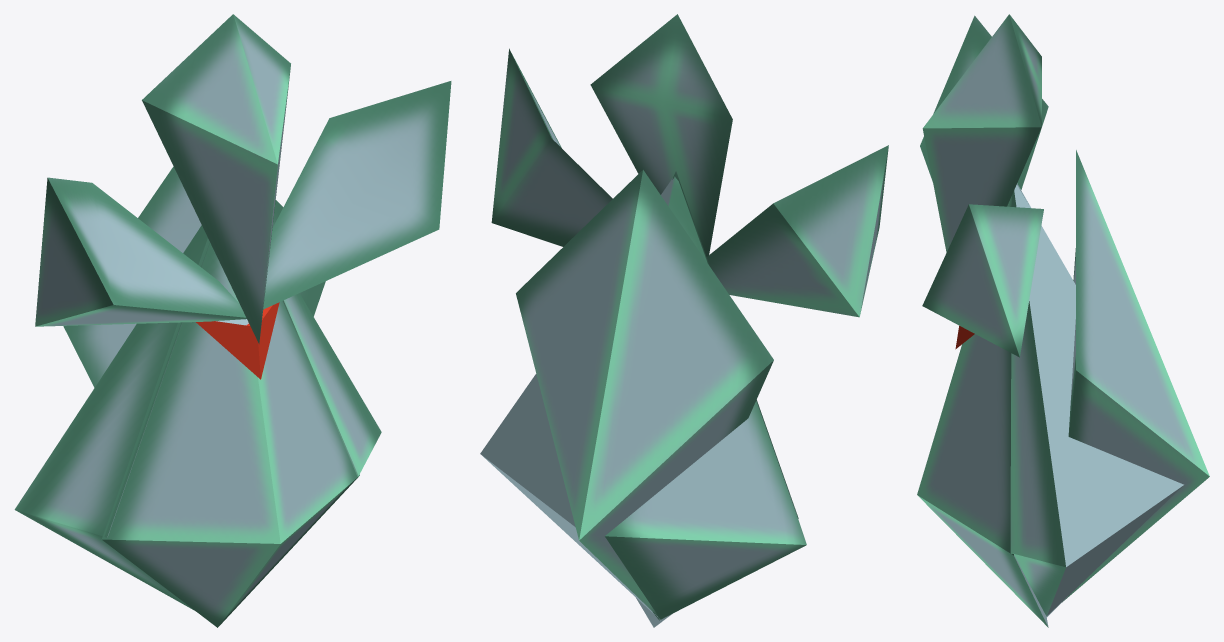
The model's file is Desert_Enemy_mesh.FBX.
The picture shows the model from 3 angles, left to right: view 1: azimuth 30°, elevation 25°; view 2: azimuth 150°, elevation 25°; view 3: azimuth 270°, elevation 25°; orthographic projection. The views are drawn at different scales.
Visible parts, largest first — view 1: Pyramid005; view 2: Pyramid005; view 3: Pyramid005.
Boxes of the visible parts, box(x1,y1,x2,y2) form: Pyramid005: box(14, 14, 451, 627); Pyramid005: box(480, 14, 888, 627); Pyramid005: box(917, 14, 1209, 627).
Size of the model in its own units: 215 by 322 by 140.
